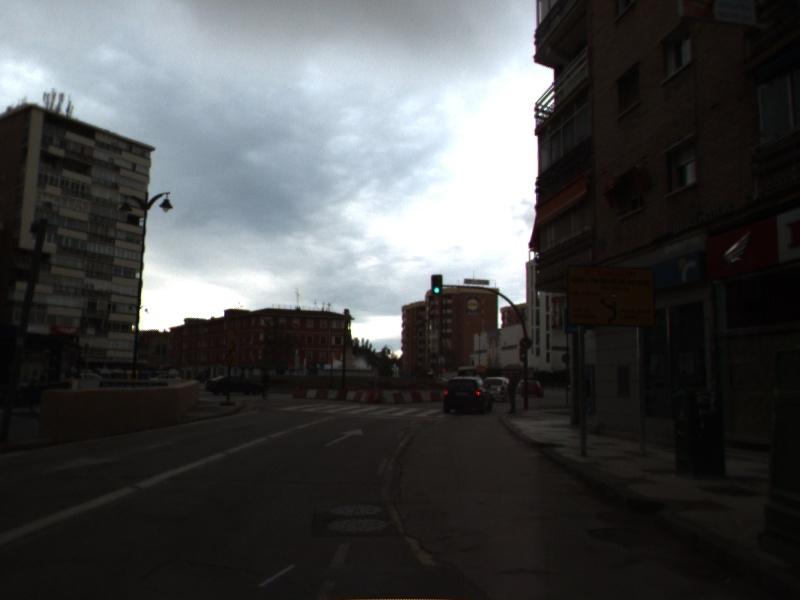STRAIGHT: (321, 425, 366, 448)
